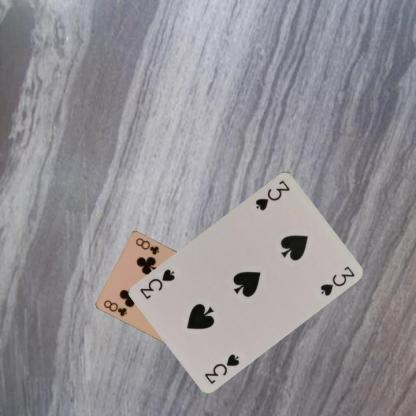3s: (202, 351, 241, 385), (253, 177, 291, 211)
8c: (101, 297, 128, 317)
